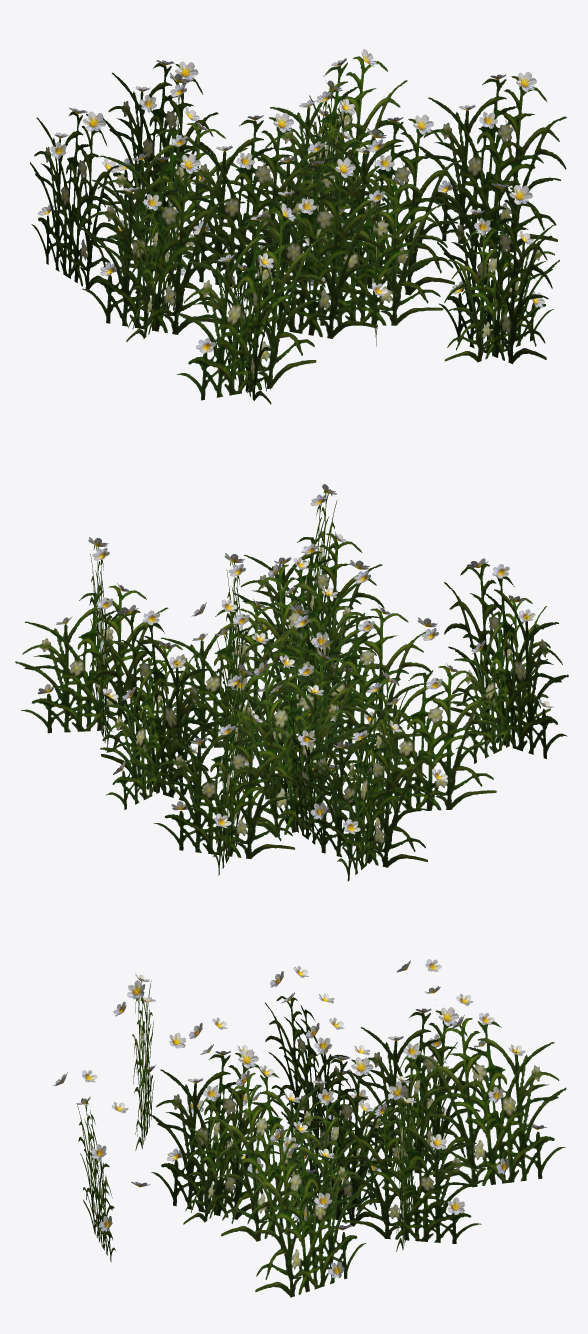
The model's file is wm_灌木野花07.fbx.
3 renders of one model, top to bottom at view 1: azimuth 30°, elevation 25°; view 2: azimuth 150°, elevation 25°; view 3: azimuth 270°, elevation 25°, orthographic. The views are drawn at different scales.
Parts seen in each view (by area): view 1: wm_灌木野花07; view 2: wm_灌木野花07; view 3: wm_灌木野花07.
Boxes of the visible parts, x1,y1,x2,y2 form: wm_灌木野花07: (30, 49, 566, 404); wm_灌木野花07: (15, 484, 568, 881); wm_灌木野花07: (53, 959, 566, 1297).
Size of the model in its own units: 188 by 75.75 by 203.
